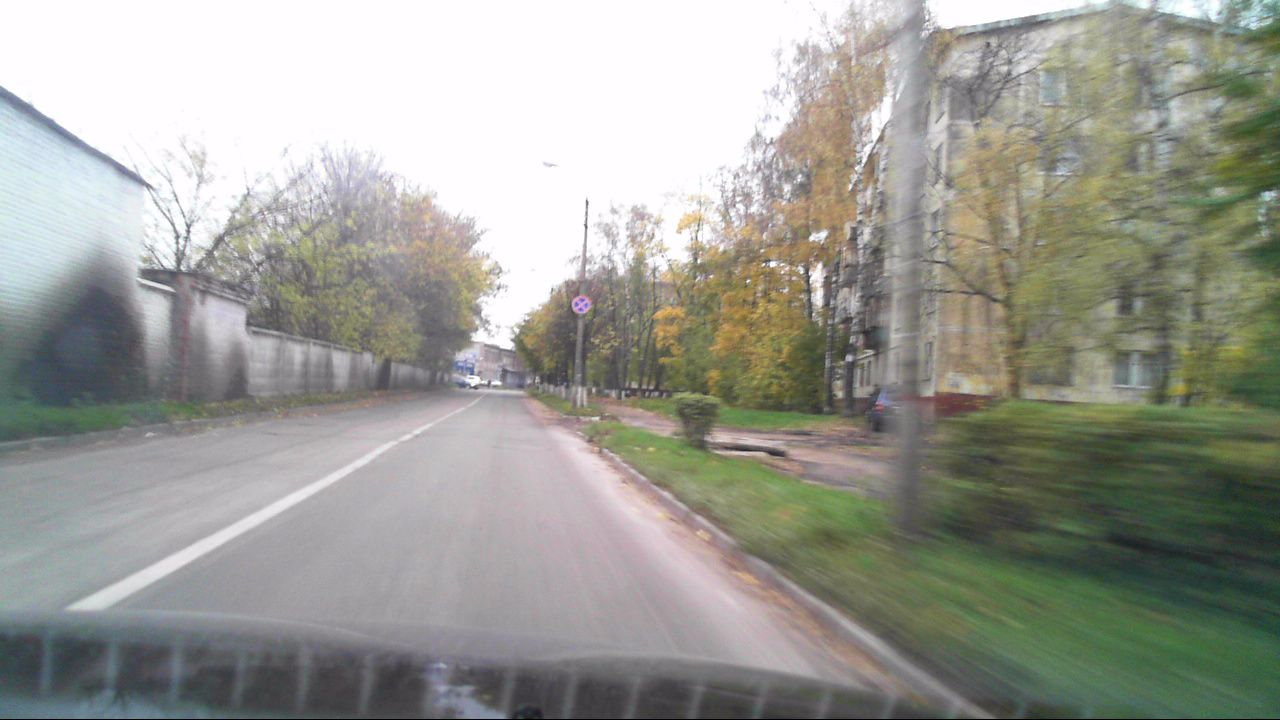No Parking: (572, 293, 591, 315)
